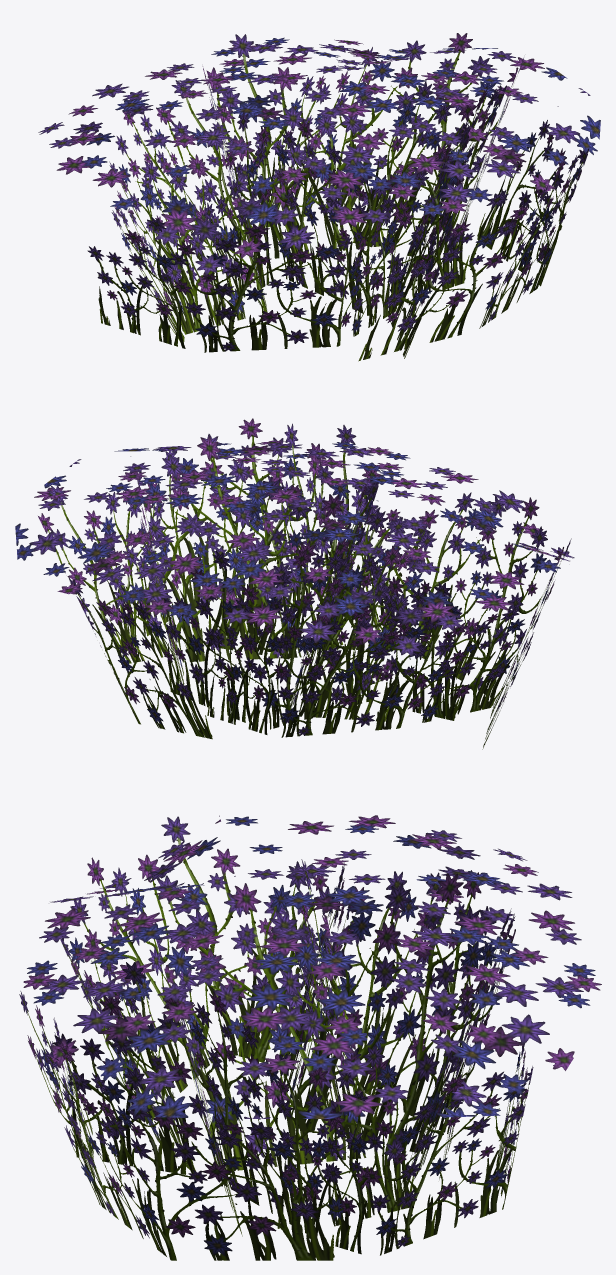
Rendered from SM_BabysDeath.FBX.
The picture shows the model from 3 angles, top to bottom: view 1: azimuth 30°, elevation 25°; view 2: azimuth 150°, elevation 25°; view 3: azimuth 270°, elevation 25°; orthographic projection. The views are drawn at different scales.
Parts seen in each view (by area): view 1: SM_BabysDeath; view 2: SM_BabysDeath; view 3: SM_BabysDeath.
Part boxes in pixels (x1,y1,x2,y2): SM_BabysDeath: (38, 33, 600, 361); SM_BabysDeath: (15, 418, 574, 749); SM_BabysDeath: (19, 815, 601, 1260).
Size of the model in its own units: 33.69 by 13.09 by 26.47.
Materials: 1 (1 with a texture image).
